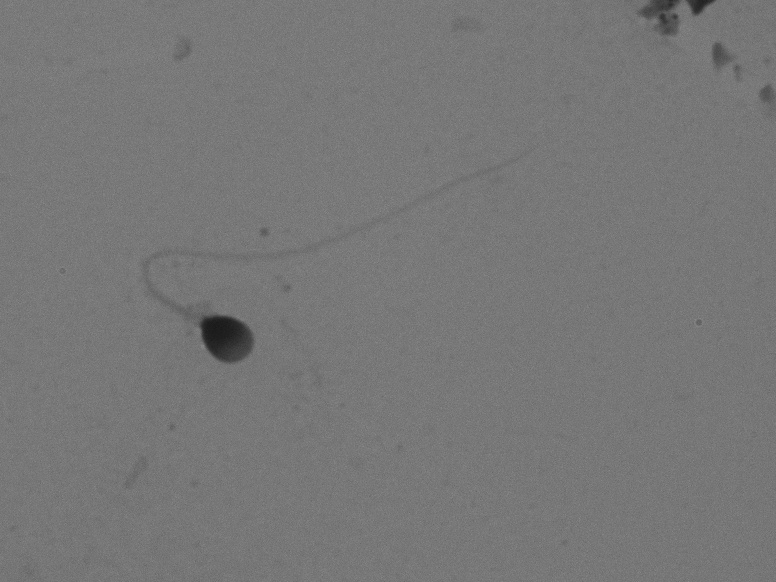Normal: (75, 118, 566, 376)
